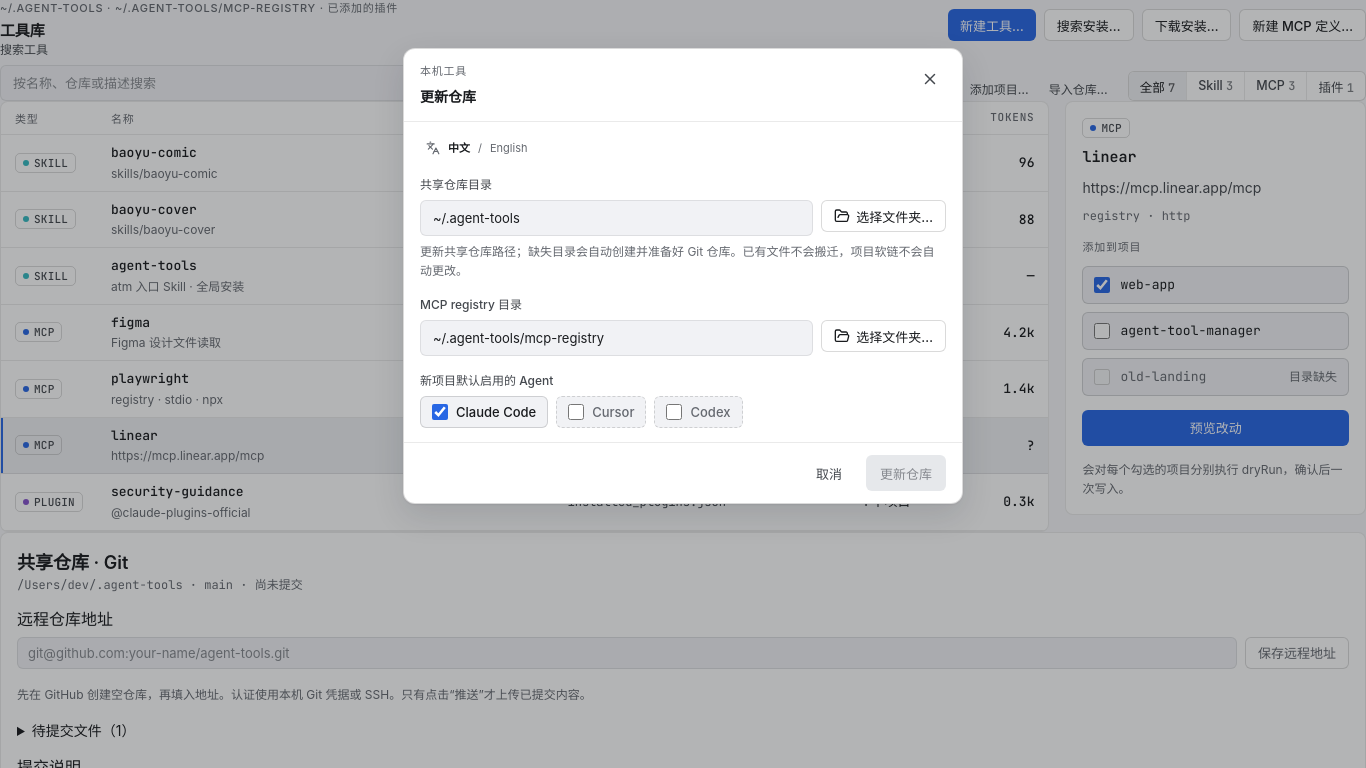
Test case: shared directory initialization › library has no initialization entry and settings updates the repository in place
This screenshot has width=1366, height=768.
Expected: the heading "更新仓库" is shown, [420,88,476,104]
Clear the field labelled "共享仓库目录". click: [617, 218]
box: [420,200,813,236]
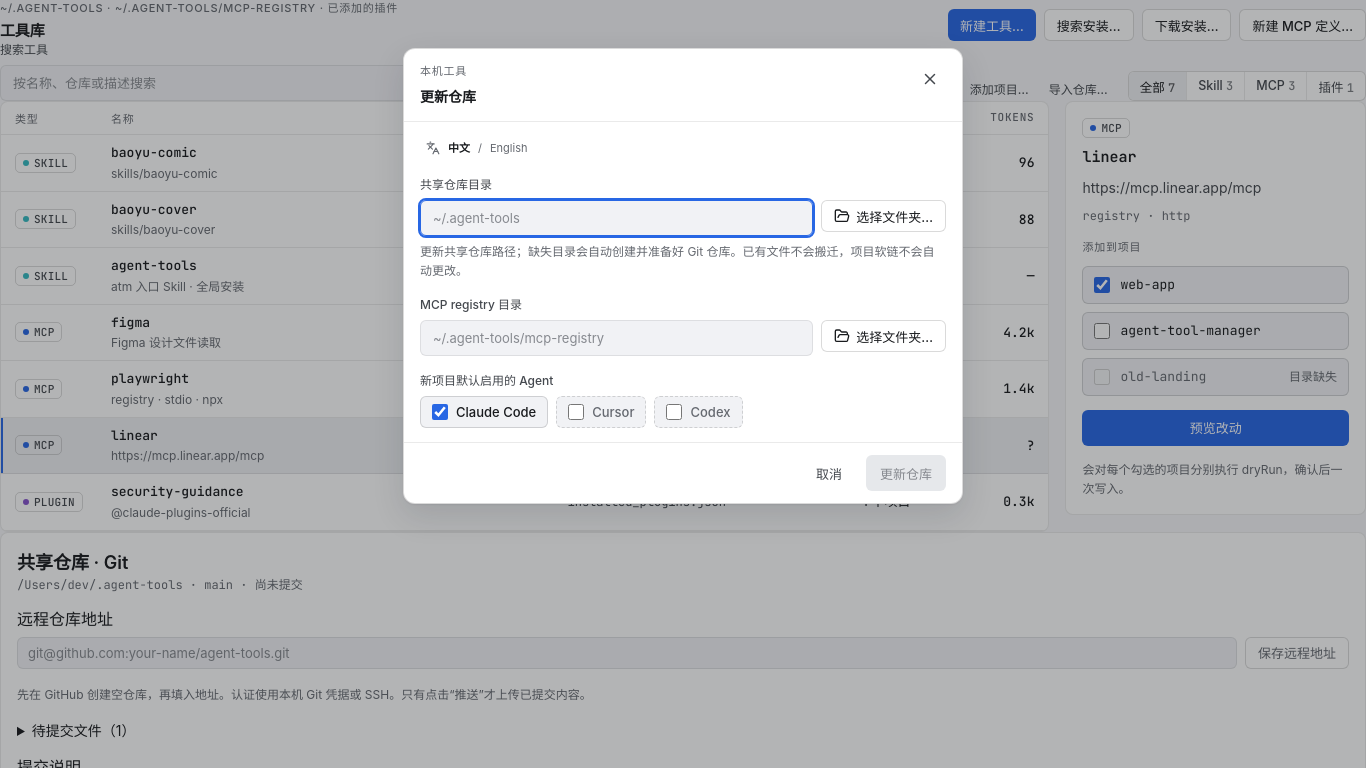
Expected: the button "更新仓库" is disabled, [866,455,946,491]
Type "~/my-tools" into the field labelled "共享仓库目录". click: [617, 218]
box: [420,200,813,236]
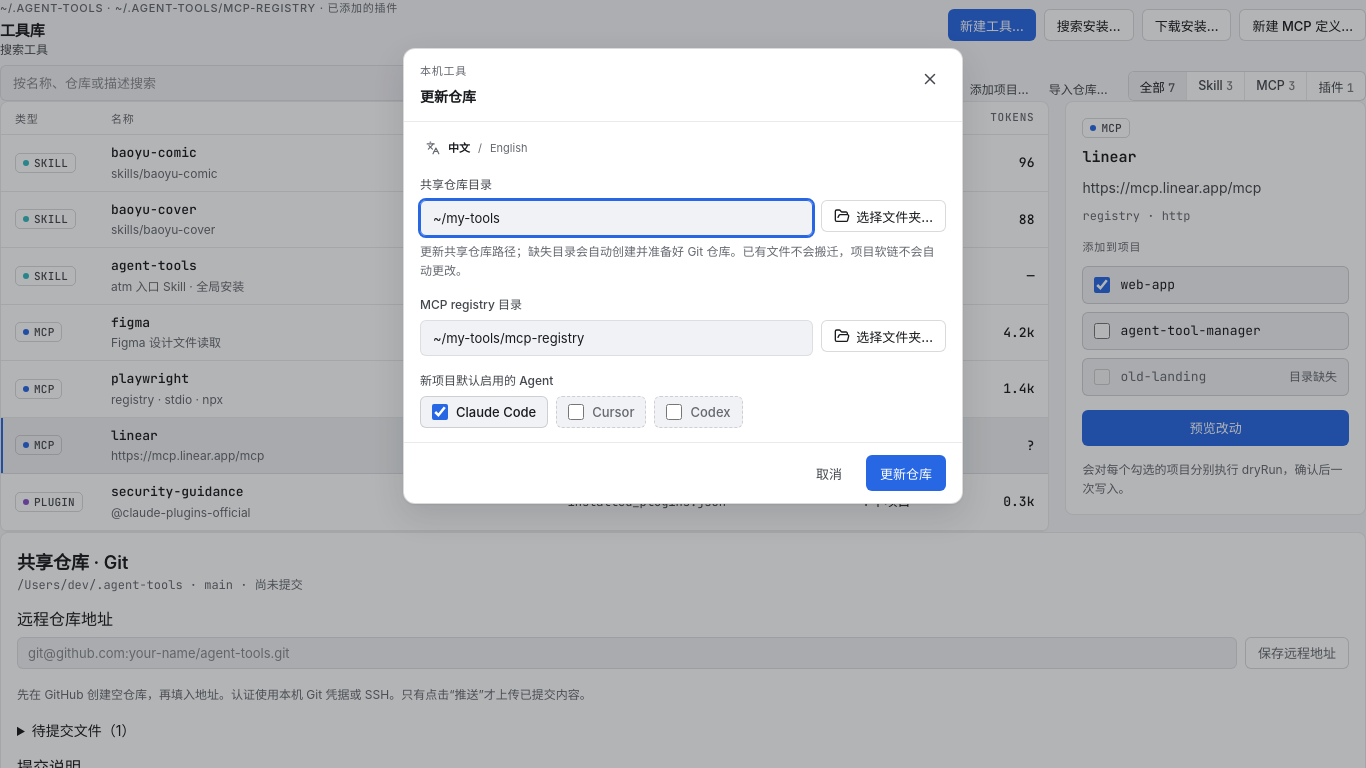
Expected: the field labelled "MCP registry 目录" holds "~/my-tools/mcp-registry", [420,320,813,356]
Click the checkbox labelled "Cursor". click: [576, 412]
box: [568,404,584,420]
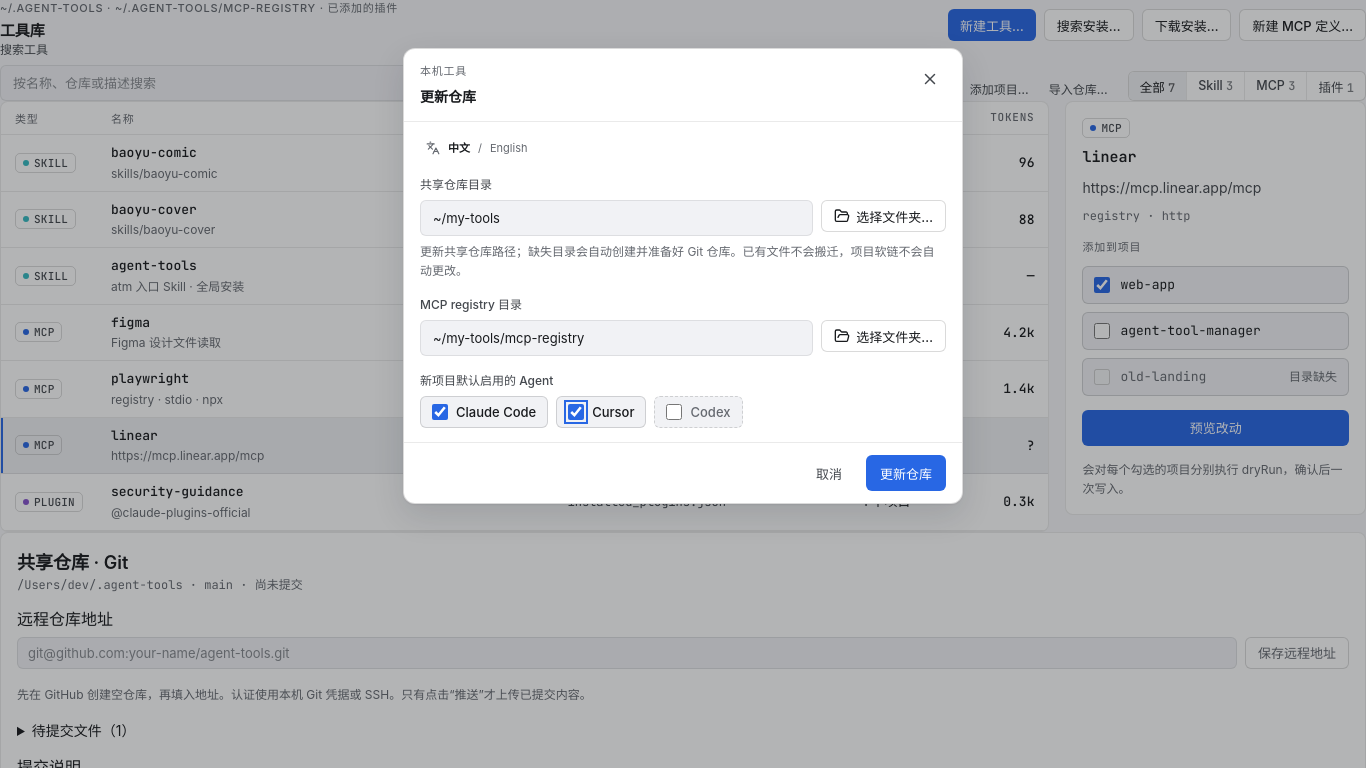
Click the button "更新仓库". click: [906, 473]
box: [866,455,946,491]
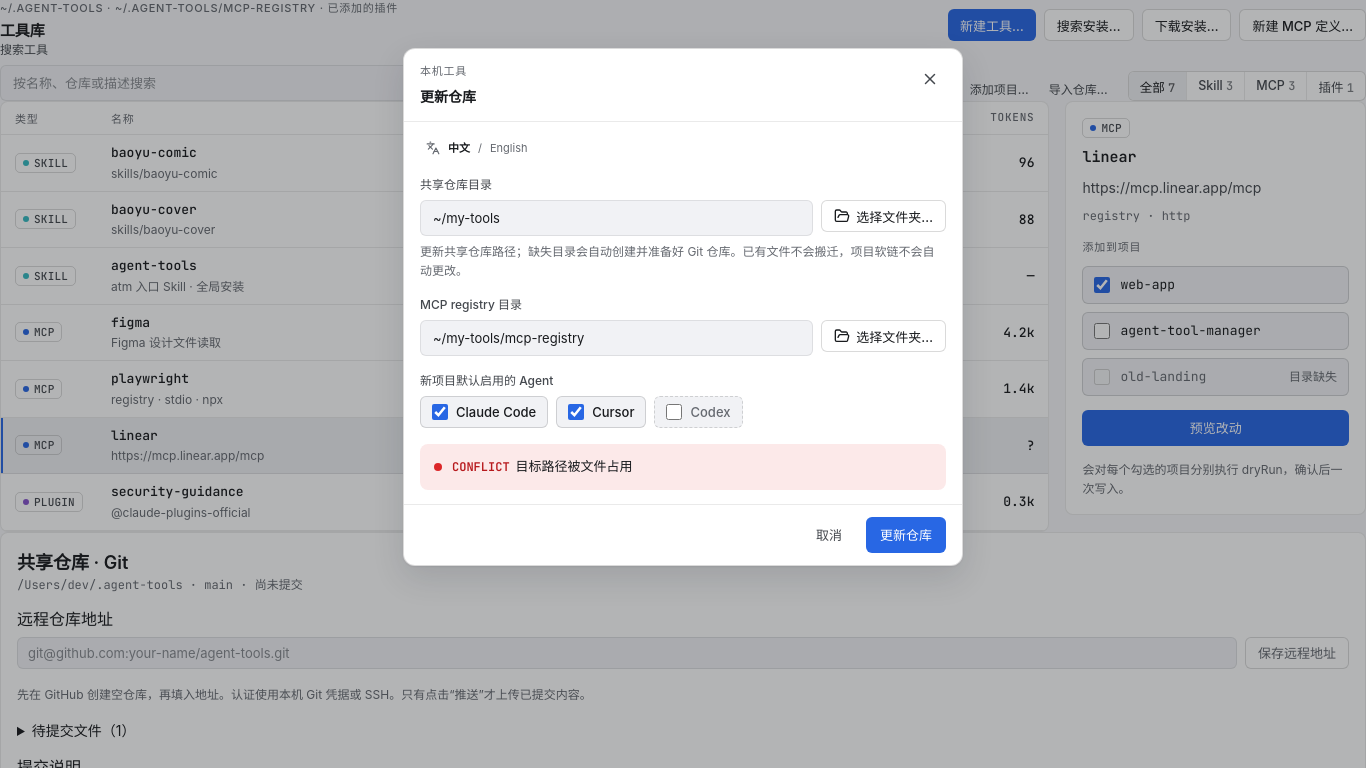
Expected: the text "目标路径被文件占用" is shown, [516,458,633,474]
Click the button "更新仓库". click: [906, 535]
box: [866,517,946,553]
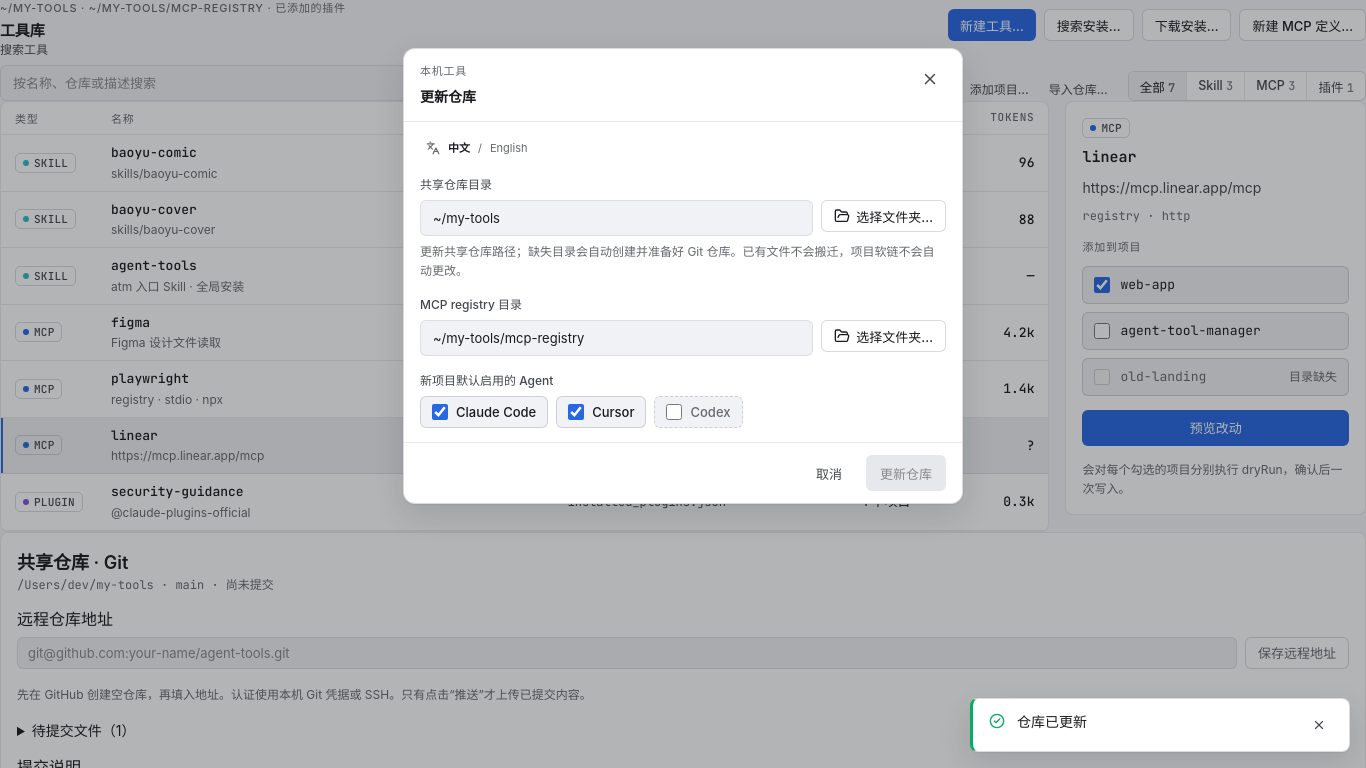
Expected: the text "~/my-tools · ~/my-tools/mcp-registry · 已添加的插件" is shown, [0,1,346,15]
Expected: the text "仓库已更新" is shown, [1017,713,1087,730]
